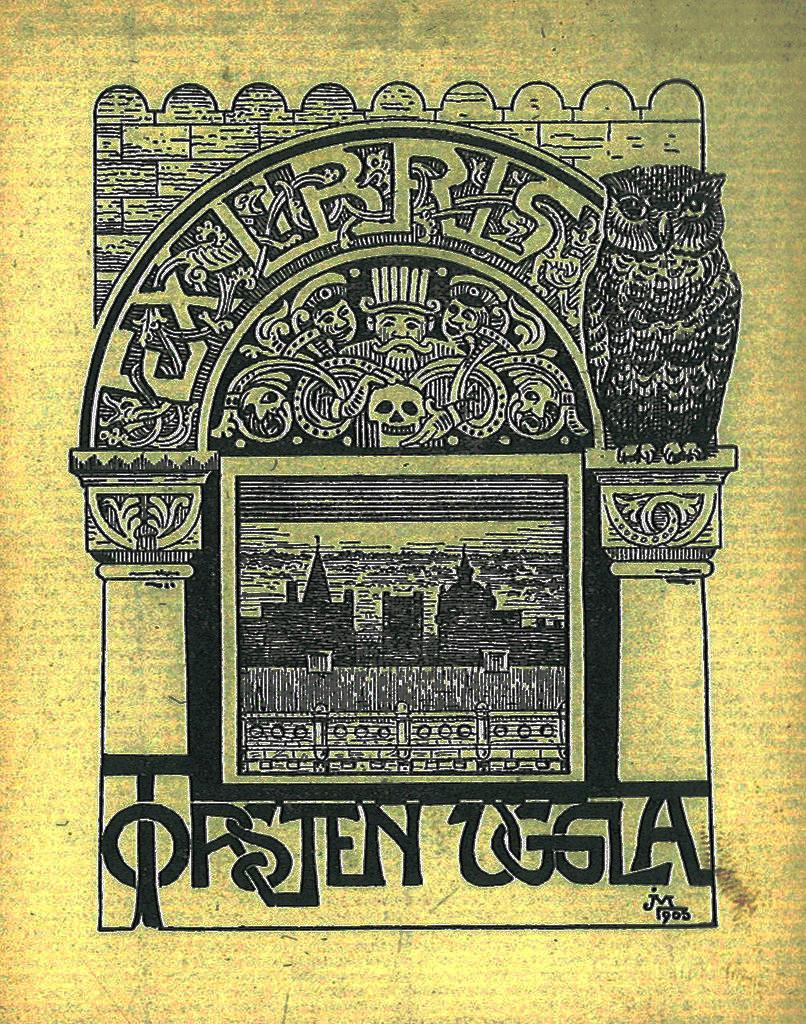Owl: (582, 162, 742, 466)
